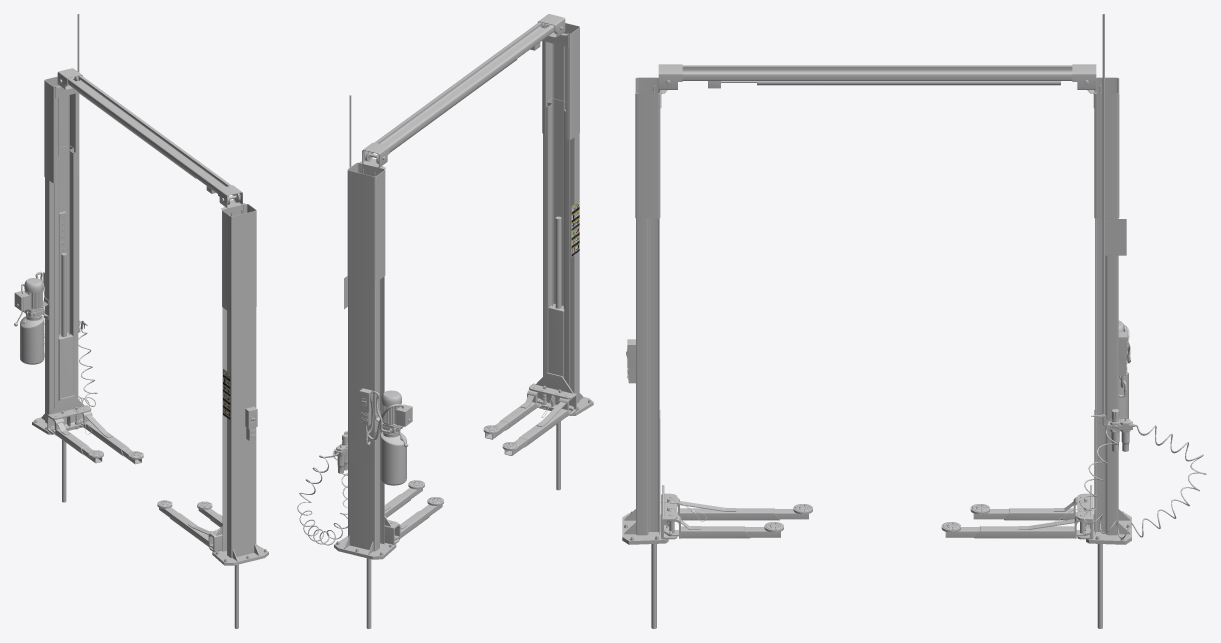
File: elevador_dospostes.fbx
The picture shows the model from 3 angles, left to right: view 1: azimuth 30°, elevation 25°; view 2: azimuth 150°, elevation 25°; view 3: azimuth 270°, elevation 25°; orthographic projection. The views are drawn at different scales.
Parts seen in each view (by area): view 1: lateral (×2), techo, hidraulico (×2), motor, brazo_largo (×2), dientes, pCylinder11, brazo_corto, cable_izq, senaletica_poste; view 2: lateral (×2), techo, hidraulico (×2), motor, brazo_corto (×2), brazo_largo, pCylinder15, cable_der, cable_izq, senaletica_poste, tarjeta_control; view 3: lateral (×2), techo, brazo_largo (×2), hidraulico (×2), brazo_corto (×2), pCylinder11, pCylinder15, peligro_elevador.
Boxes of the visible parts, bbox=[...] form: lateral (×2): bbox=[32, 76, 268, 565]; techo: bbox=[55, 68, 245, 216]; hidraulico (×2): bbox=[47, 253, 238, 628]; motor: bbox=[14, 278, 48, 364]; brazo_largo (×2): bbox=[79, 411, 213, 548]; dientes: bbox=[59, 211, 66, 334]; pCylinder11: bbox=[77, 14, 79, 332]; brazo_corto: bbox=[50, 418, 88, 454]; cable_izq: bbox=[58, 97, 59, 336]; senaletica_poste: bbox=[222, 368, 230, 419]; lateral (×2): bbox=[334, 23, 593, 559]; techo: bbox=[359, 14, 568, 176]; hidraulico (×2): bbox=[366, 216, 576, 628]; motor: bbox=[375, 390, 412, 485]; brazo_corto (×2): bbox=[394, 389, 541, 540]; brazo_largo: bbox=[518, 398, 573, 447]; pCylinder15: bbox=[297, 449, 347, 545]; cable_der: bbox=[563, 33, 564, 308]; cable_izq: bbox=[552, 43, 553, 306]; senaletica_poste: bbox=[571, 200, 579, 257]; tarjeta_control: bbox=[350, 441, 371, 464]; lateral (×2): bbox=[622, 77, 1131, 544]; techo: bbox=[658, 64, 1096, 107]; brazo_largo (×2): bbox=[677, 497, 1090, 538]; hidraulico (×2): bbox=[651, 410, 1102, 628]; brazo_corto (×2): bbox=[664, 497, 1077, 538]; pCylinder11: bbox=[1102, 14, 1108, 426]; pCylinder15: bbox=[1079, 424, 1206, 538]; peligro_elevador: bbox=[1099, 219, 1126, 255].
Bounding box in the file's own units: 8.01 × 51.82 × 44.02.
